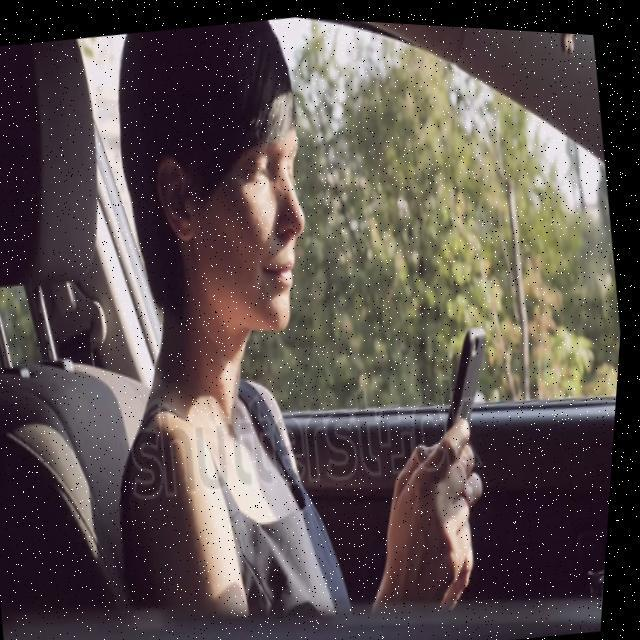PhoneCall: (429, 320, 515, 478)
